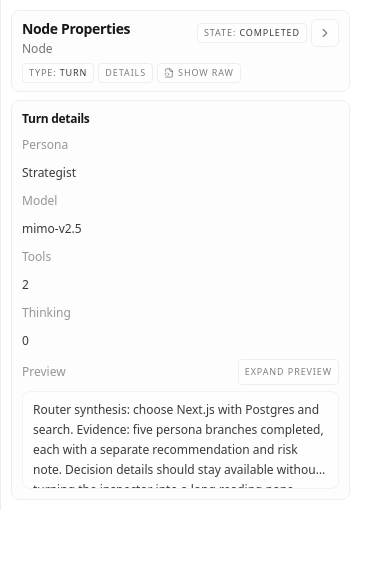
ExecutionGraphInspector › keeps long node preview text collapsed until the user asks for details
What coordinates should you click on to do the following:
click the button "Expand Preview"
I would click on:
 (288, 372)
Its box is 238,358 -> 339,384.
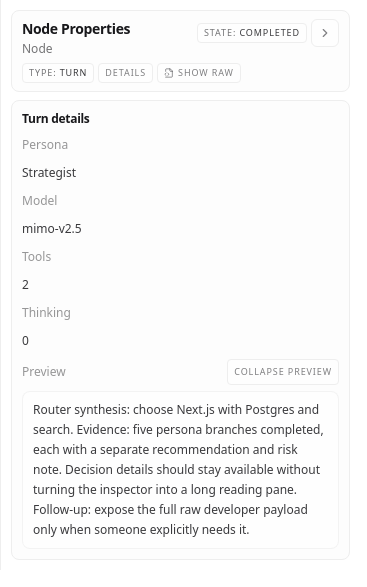
Check: the button "Collapse Preview" is shown, box 227,358 -> 339,384
